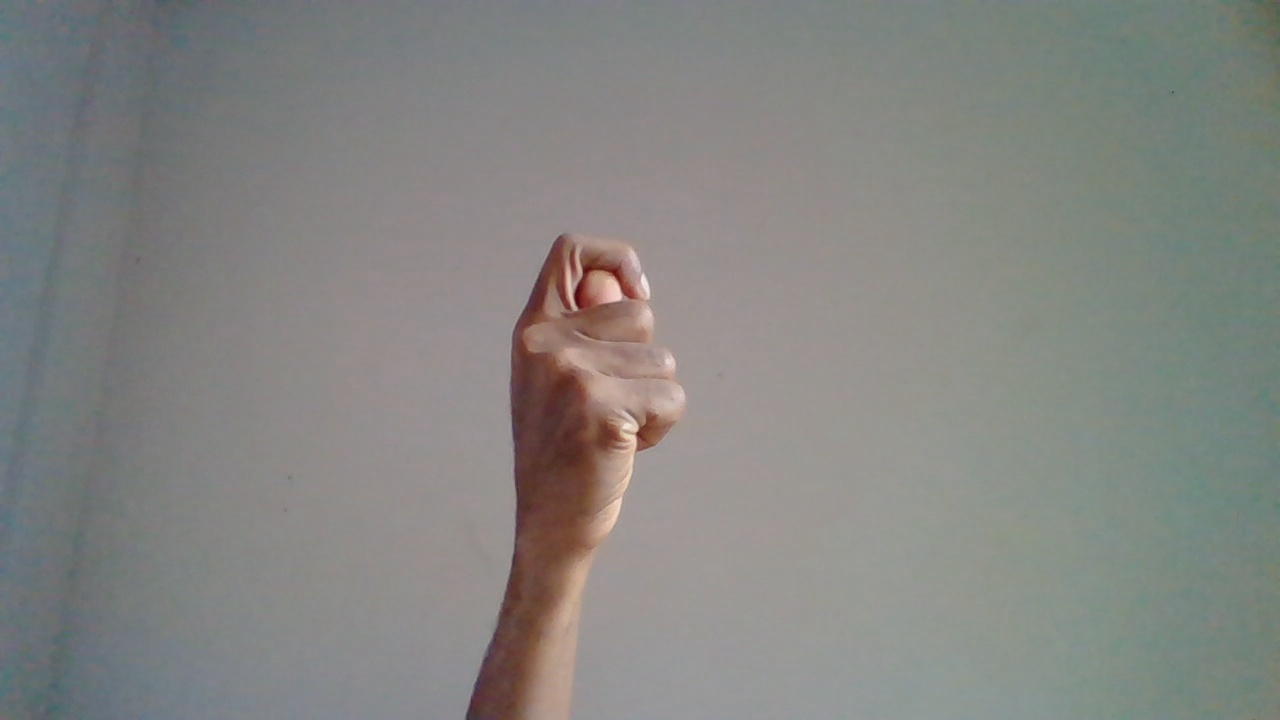che: (507, 229, 694, 699)
